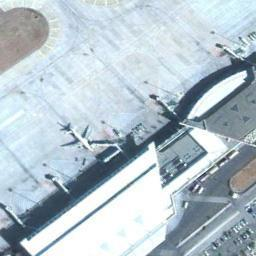Airplane: (58, 120, 97, 158)
